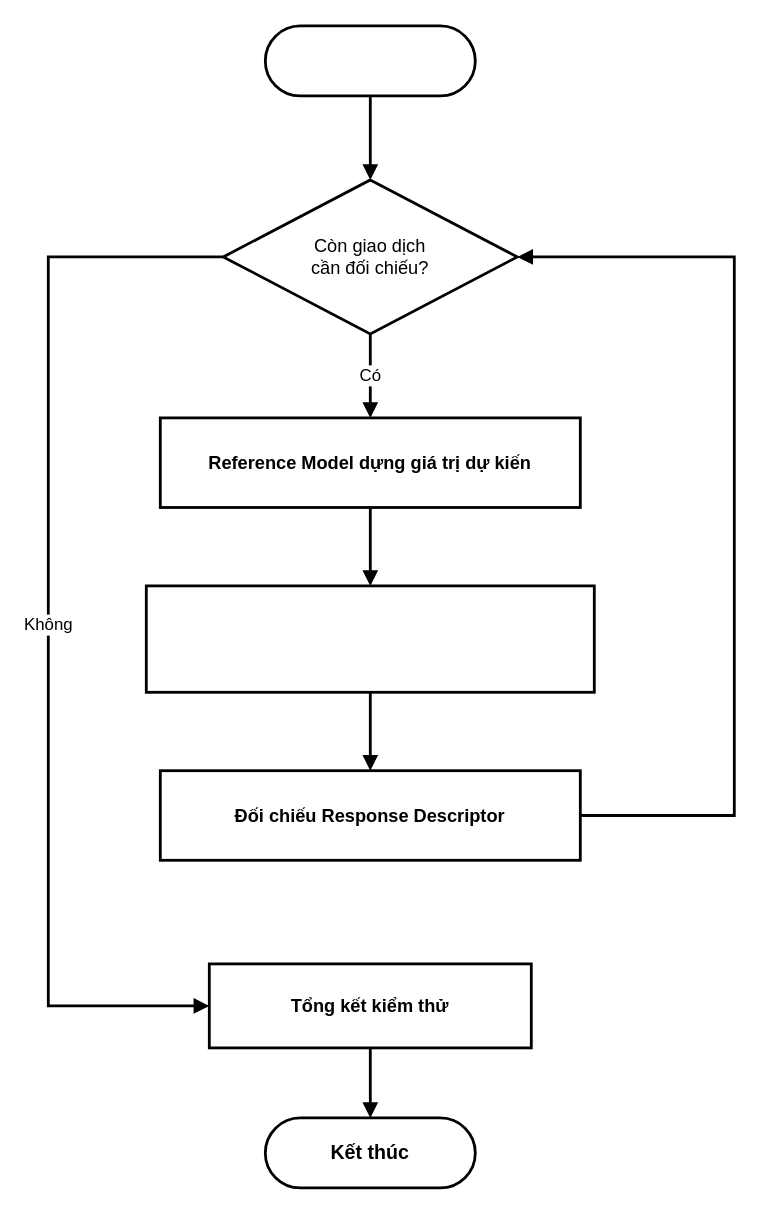
This 771x1212 diagram has some shape labels left out. The centre of each missing label's shape, as x and y in pixels:
"Bắt đầu" belongs at (369,60).
"Đối chiếu giao dịch tái tạo trên bus với giá trị dự kiến" belongs at (369,638).
